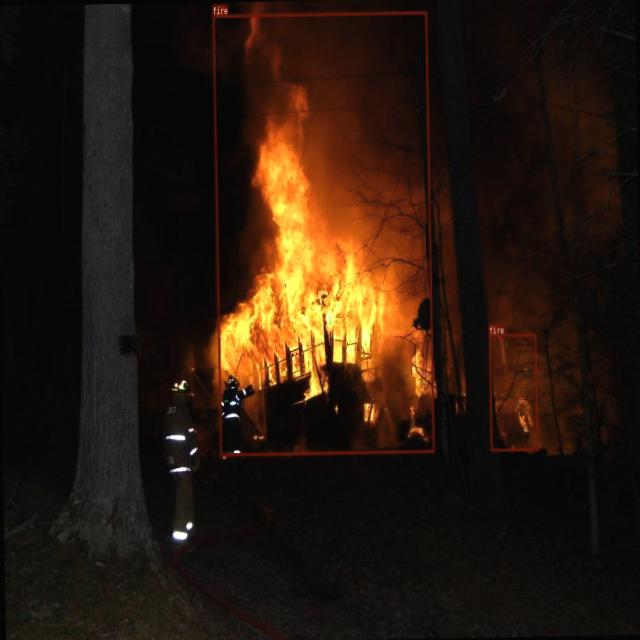fire: (212, 10, 434, 456), (488, 332, 538, 450)
